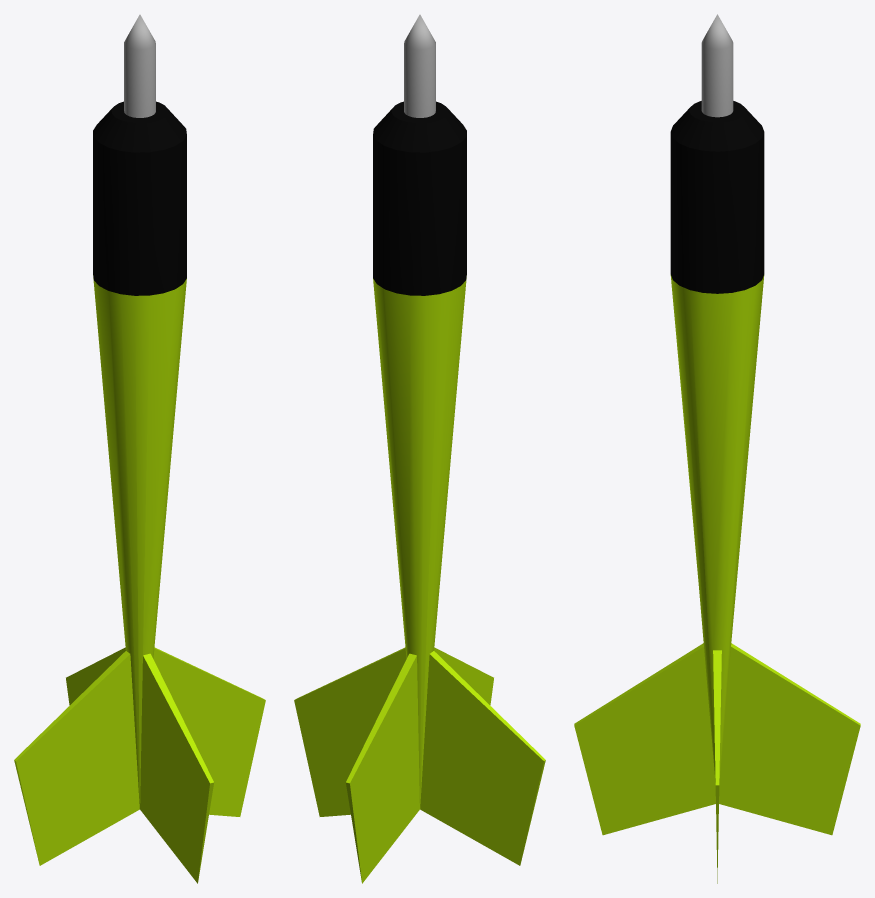
Rendered from DartV2.fbx.
The picture shows the model from 3 angles, left to right: view 1: azimuth 30°, elevation 25°; view 2: azimuth 150°, elevation 25°; view 3: azimuth 270°, elevation 25°; orthographic projection.
Parts seen in each view (by area): view 1: pCone1; view 2: pCone1; view 3: pCone1.
Boxes of the visible parts, bbox=[...] form: pCone1: bbox=[14, 14, 265, 883]; pCone1: bbox=[294, 14, 545, 883]; pCone1: bbox=[574, 14, 860, 883].
Size of the model in its own units: 18.02 by 57.03 by 18.02.
